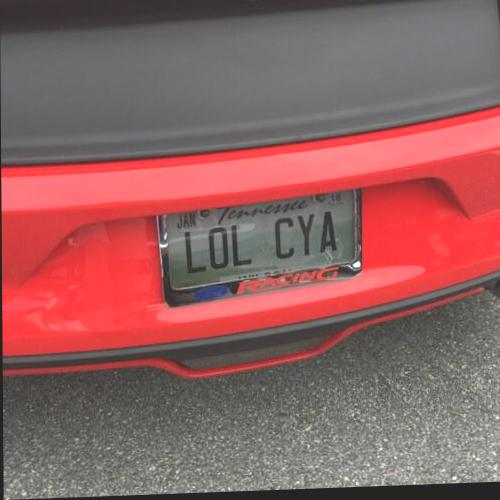License_Plate: (149, 182, 373, 314)
